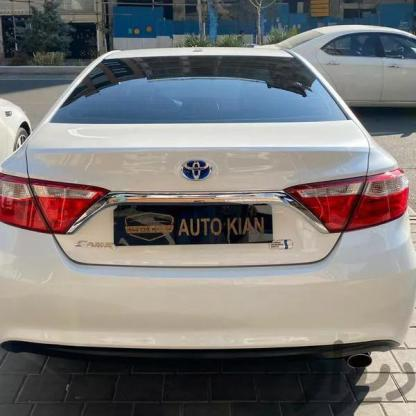Car: (0, 41, 416, 393), (262, 8, 416, 130), (0, 96, 58, 166)
